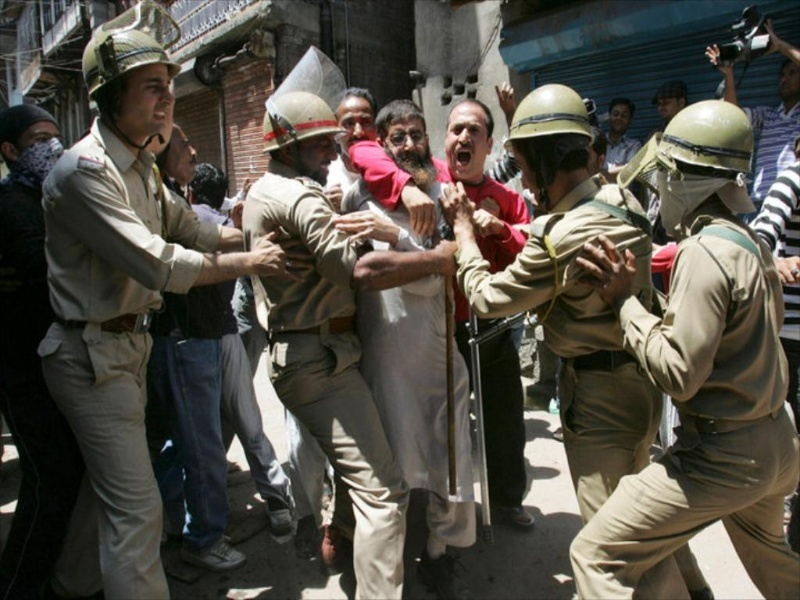Baret: (655, 102, 754, 184), (501, 84, 598, 153), (81, 28, 183, 93), (261, 90, 349, 164)
